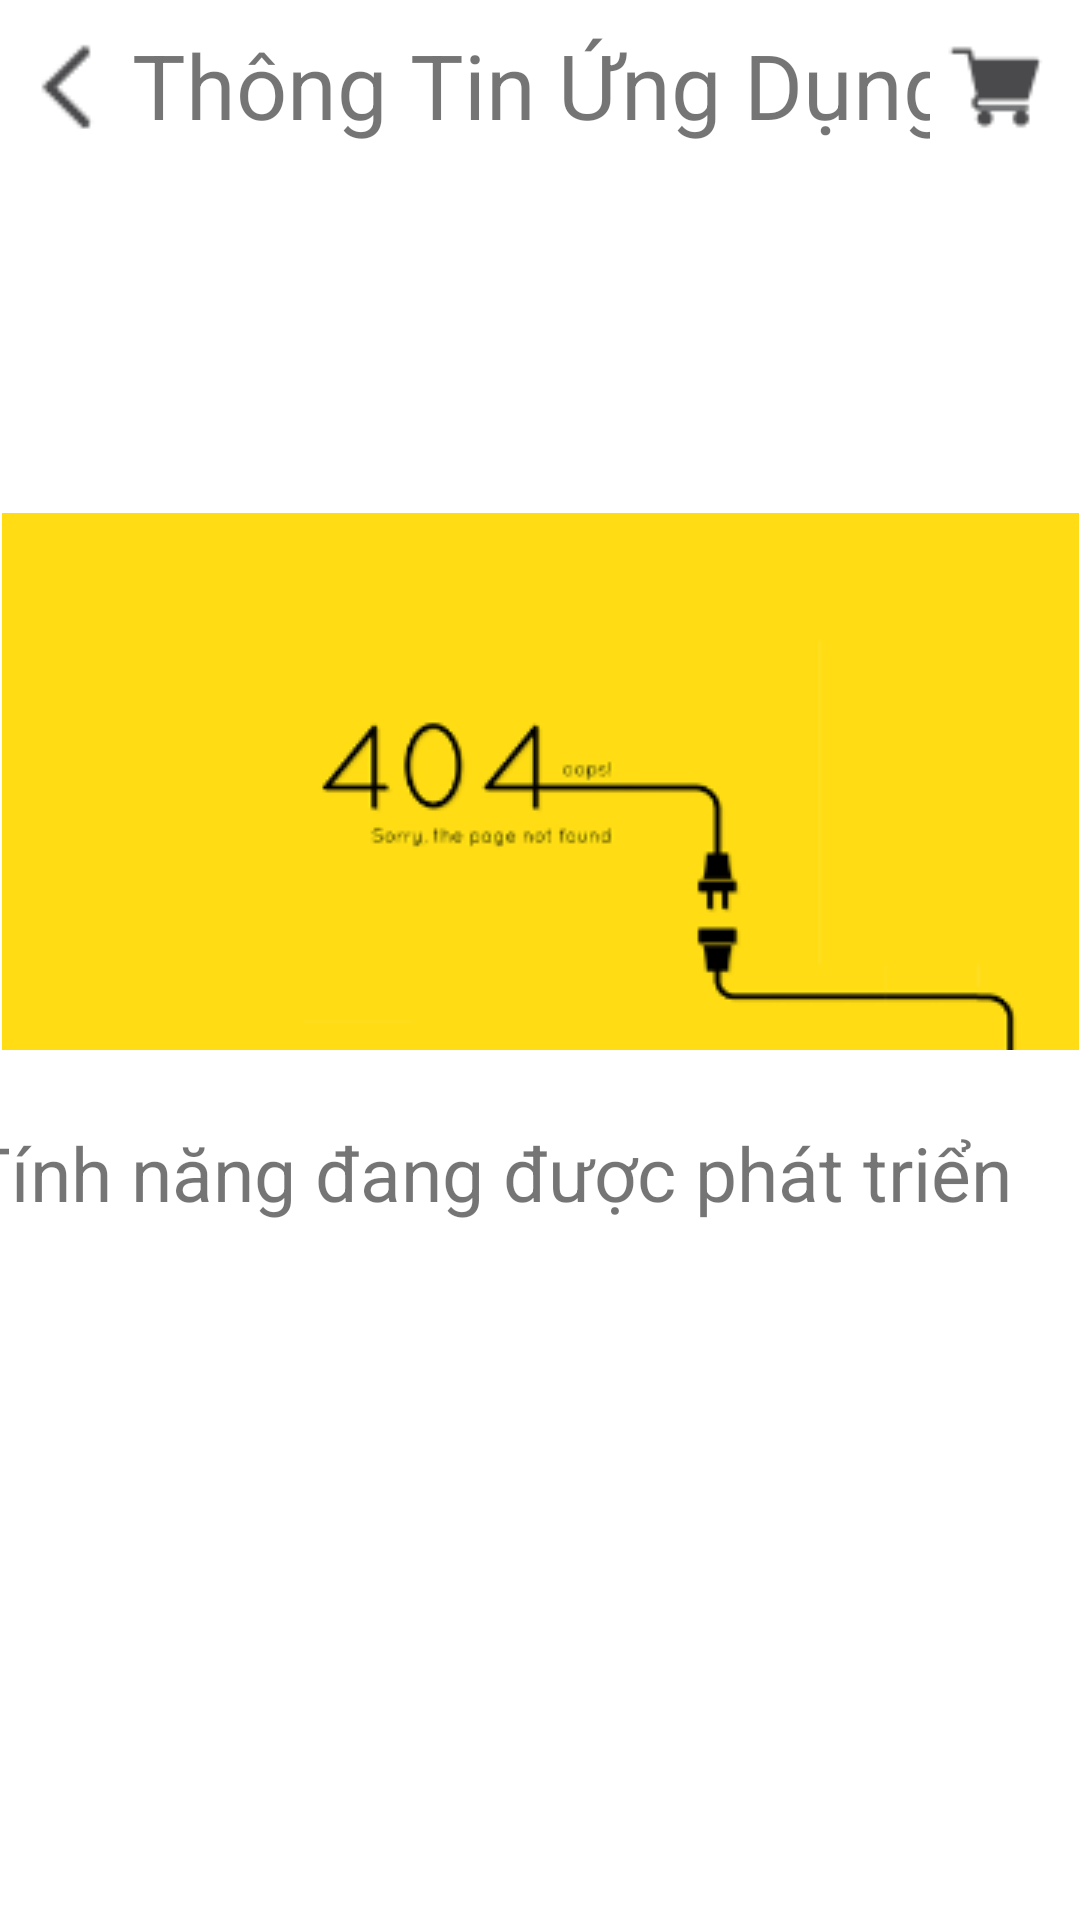

Icons on this 1080px×1920px Android screen, each with the point to tap as (x=x, y=y):
back: (x=66, y=87)
buy: (x=995, y=87)
